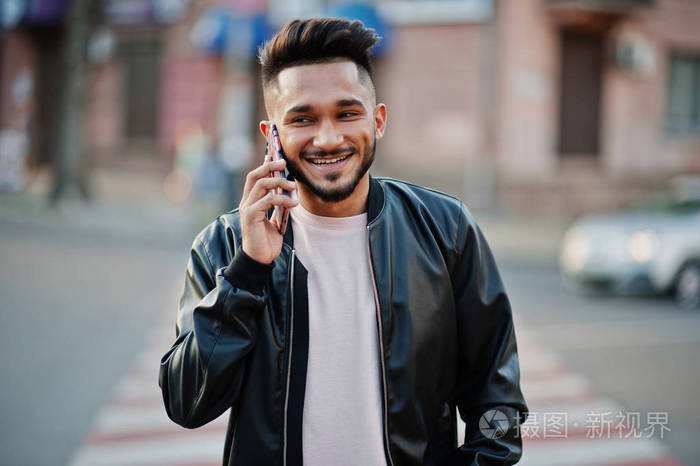calling: (237, 120, 302, 261)
